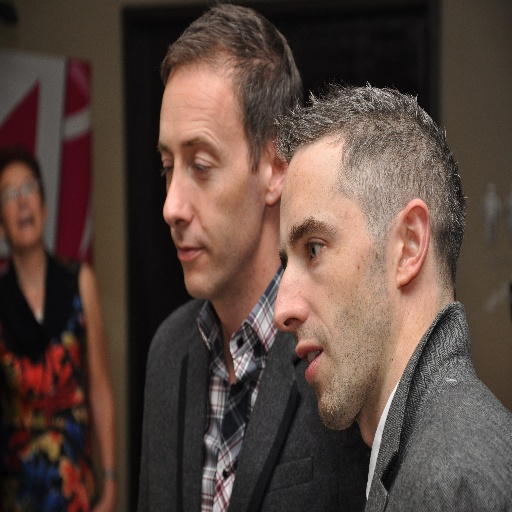hand: (93, 494, 112, 511)
